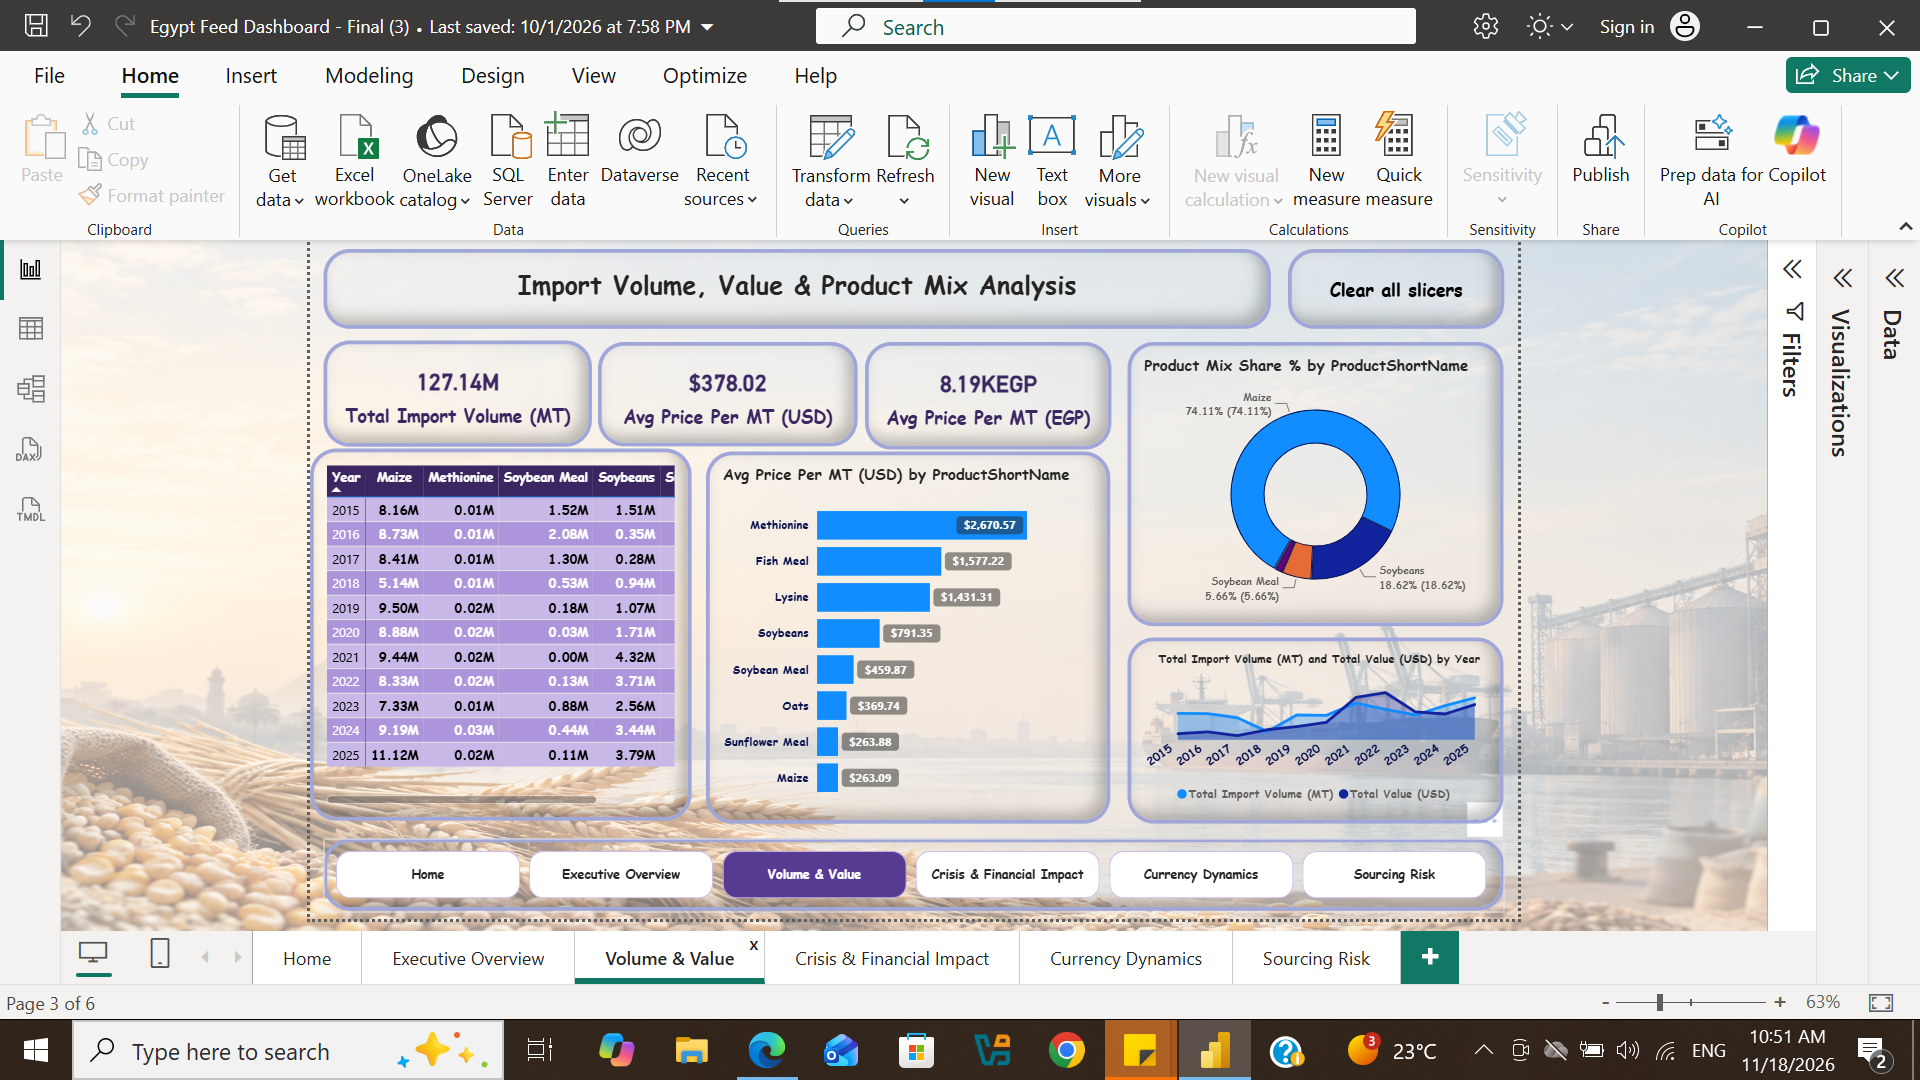

The dashboard page shown, as its layout file describes it:
{"tool":"powerbi","page":{"name":"Volume & Value","canvas":[1280,720],"ordinal":2},"visuals":[{"type":"textbox","box":[14.6,8.8,1004.7,84.6],"z":0},{"type":"actionButton","box":[1036.8,8.8,229.5,84.6],"z":1000},{"type":"pageNavigator","box":[14.6,635.1,1251.8,76.8],"z":2000},{"type":"card","fields":{"Values":["_Measures.Total Import Volume (MT)"]},"box":[14.6,106,285,112.8],"z":3000},{"type":"card","fields":{"Values":["_Measures.Avg Price Per MT (USD)"]},"box":[305.4,108,275.3,110.9],"z":4000},{"type":"card","fields":{"Values":["_Measures.Avg Price Per MT (EGP)"]},"box":[588.4,108,261.6,113.8],"z":5000},{"type":"donutChart","fields":{"Category":["DimProduct.ProductShortName"],"Y":["_Measures.Product Mix Share %"]},"box":[867.6,108,398.8,301.5],"z":6000},{"type":"clusteredBarChart","fields":{"Category":["DimProduct.ProductShortName"],"Y":["_Measures.Avg Price Per MT (USD)"]},"box":[419.2,224.7,428.9,394.9],"z":7000},{"type":"lineChart","fields":{"Category":["DimYear.Year"],"Y":["_Measures.Total Import Volume (MT)"],"Y2":["_Measures.Total Value (USD)"]},"box":[867.6,422.1,398.8,197.4],"z":8000},{"type":"pivotTable","fields":{"Columns":["DimProduct.ProductShortName"],"Rows":["DimYear.YearKey"],"Values":["_Measures.Total Import Volume (MT)"]},"box":[0,221.8,404.6,394.9],"z":9000}]}

Visuals, with their boxes on the page's 1280x720 design canvas (x1, y1, x2, y2). These are canvas units, not pixel positions in the 1920x1080 screenshot, which may show the page scaled, cropped or inside an application window:
textbox: locate(15, 9, 1019, 93)
actionButton: locate(1037, 9, 1266, 93)
pageNavigator: locate(15, 635, 1266, 712)
card - _Measures.Total Import Volume (MT): locate(15, 106, 300, 219)
card - _Measures.Avg Price Per MT (USD): locate(305, 108, 581, 219)
card - _Measures.Avg Price Per MT (EGP): locate(588, 108, 850, 222)
donutChart - DimProduct.ProductShortName x _Measures.Product Mix Share %: locate(868, 108, 1266, 410)
clusteredBarChart - DimProduct.ProductShortName x _Measures.Avg Price Per MT (USD): locate(419, 225, 848, 620)
lineChart - DimYear.Year x _Measures.Total Import Volume (MT): locate(868, 422, 1266, 620)
pivotTable - DimProduct.ProductShortName x DimYear.YearKey: locate(0, 222, 405, 617)
